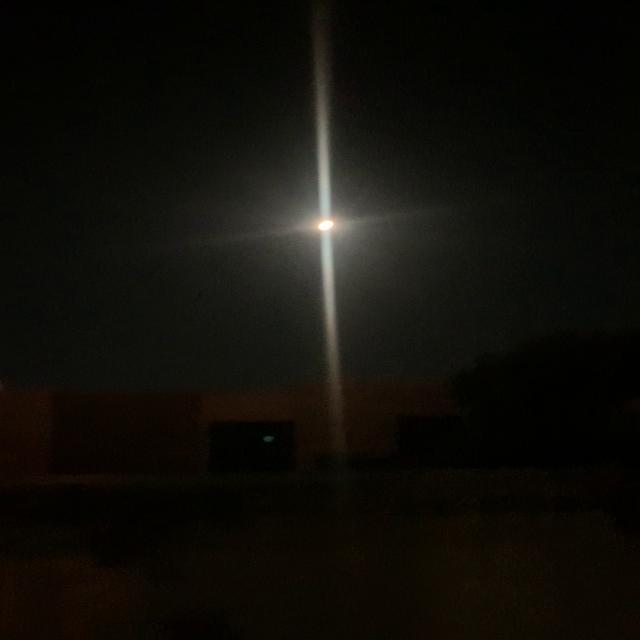moon: (308, 212, 352, 239)
